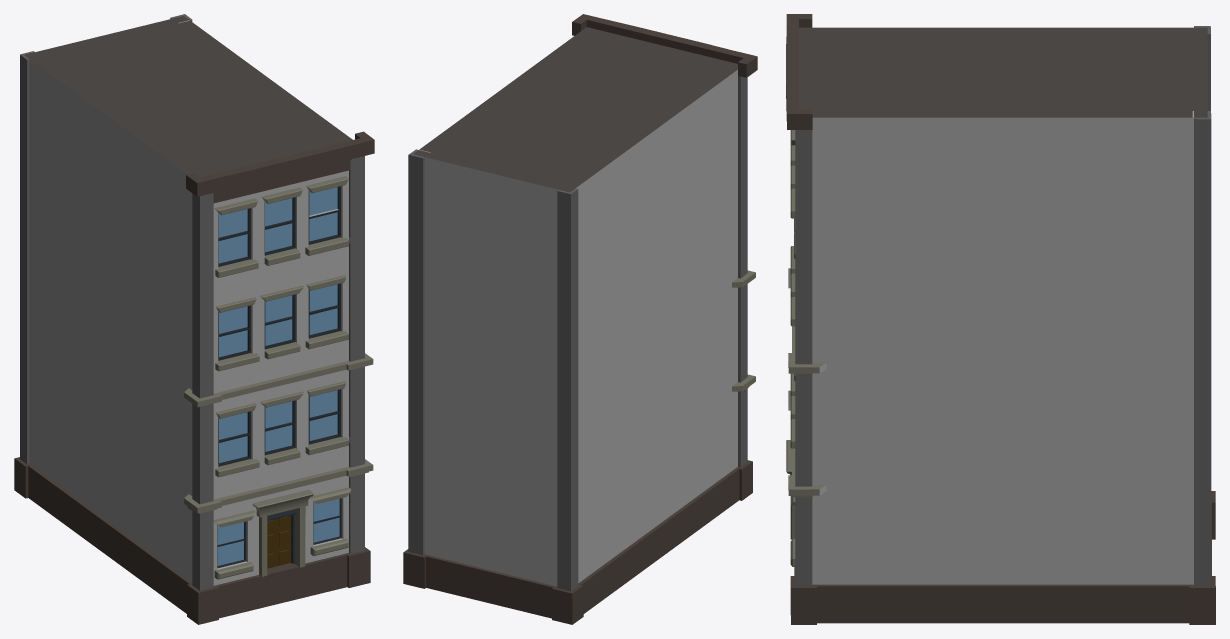
File: Apartment3 1.fbx
3 renders of one model, left to right at view 1: azimuth 30°, elevation 25°; view 2: azimuth 150°, elevation 25°; view 3: azimuth 270°, elevation 25°, orthographic. The views are drawn at different scales.
Visible parts, largest first — view 1: group2_pasted__group_pasted__pasted__group54_pasted__pasted_; view 2: group2_pasted__group_pasted__pasted__group54_pasted__pasted_; view 3: group2_pasted__group_pasted__pasted__group54_pasted__pasted_.
Boxes of the visible parts, x1=… form: group2_pasted__group_pasted__pasted__group54_pasted__pasted_: x1=14, y1=14, x2=374, y2=624; group2_pasted__group_pasted__pasted__group54_pasted__pasted_: x1=403, y1=14, x2=757, y2=624; group2_pasted__group_pasted__pasted__group54_pasted__pasted_: x1=786, y1=14, x2=1215, y2=624.
Size of the model in its own units: 327 by 779 by 592.
